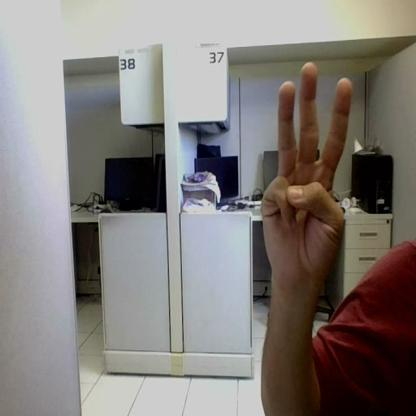W: (262, 62, 352, 272)
